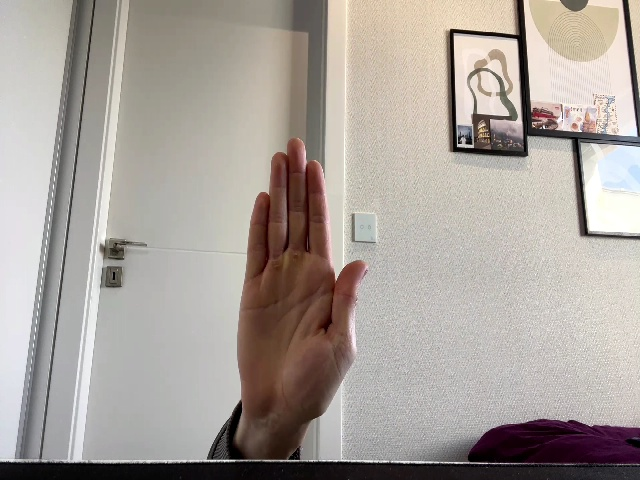B: (237, 138, 366, 420)
